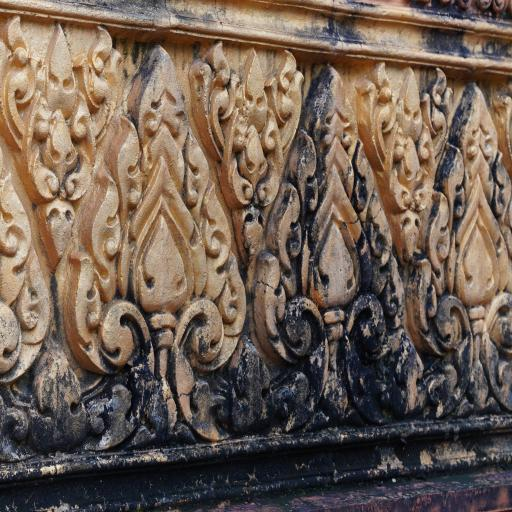lua: (71, 50, 242, 445), (254, 54, 414, 446), (410, 64, 512, 430), (0, 15, 131, 263), (197, 30, 309, 234), (359, 65, 454, 242), (0, 151, 50, 405)
